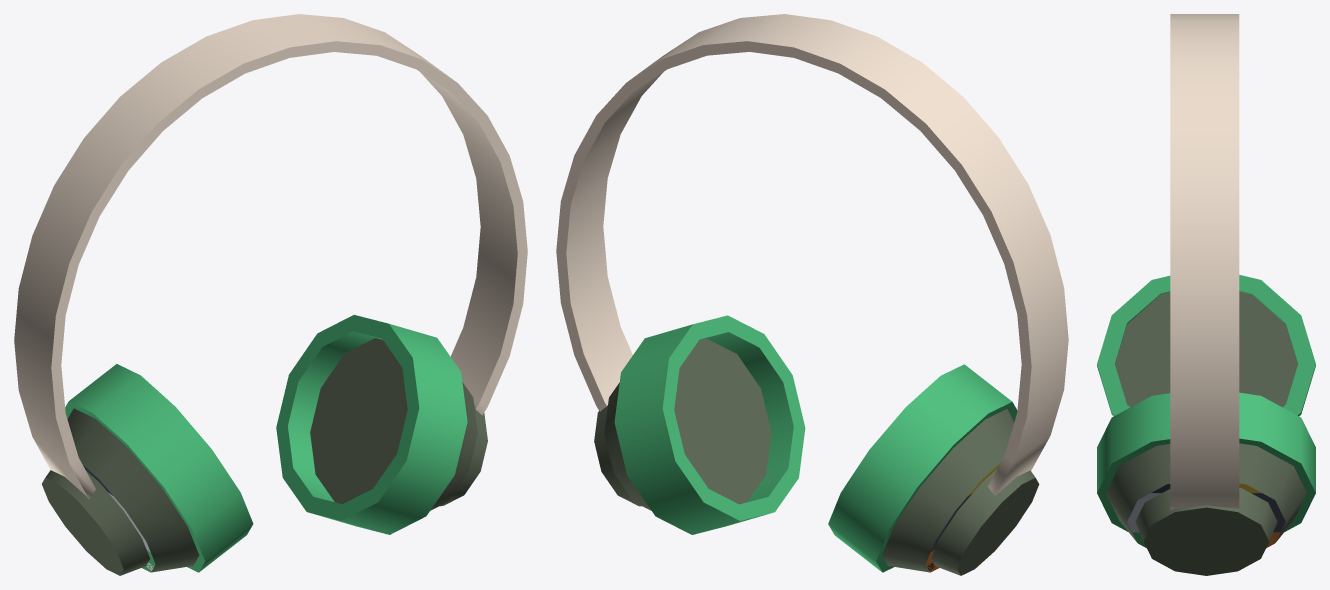
The model's file is FoneOuvido2.fbx.
The picture shows the model from 3 angles, left to right: view 1: azimuth 30°, elevation 25°; view 2: azimuth 150°, elevation 25°; view 3: azimuth 270°, elevation 25°; orthographic projection. The views are drawn at different scales.
Visible parts, largest first — view 1: FoneOuvido; view 2: FoneOuvido; view 3: FoneOuvido.
Part boxes in pixels (x1=…): FoneOuvido: x1=14, y1=14, x2=527, y2=575; FoneOuvido: x1=556, y1=14, x2=1068, y2=575; FoneOuvido: x1=1097, y1=14, x2=1315, y2=575.
Size of the model in its own units: 44.35 by 45.67 by 18.98.
Materials: 1 (1 with a texture image).
